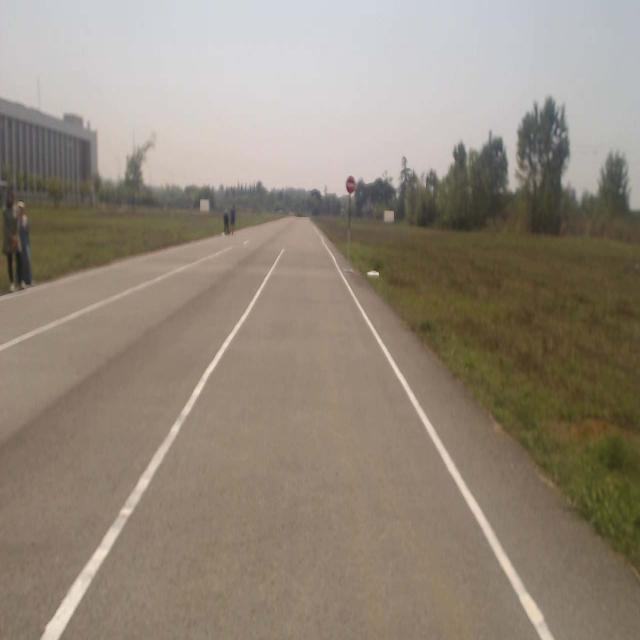girisyok: (346, 176, 356, 196)
